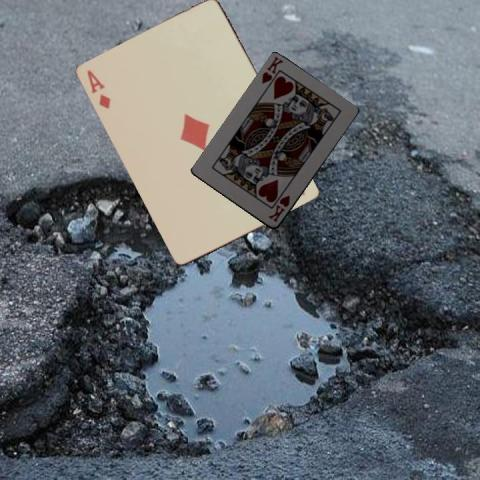Ad: (84, 68, 113, 112)
Kh: (266, 192, 292, 224), (258, 54, 284, 85)
